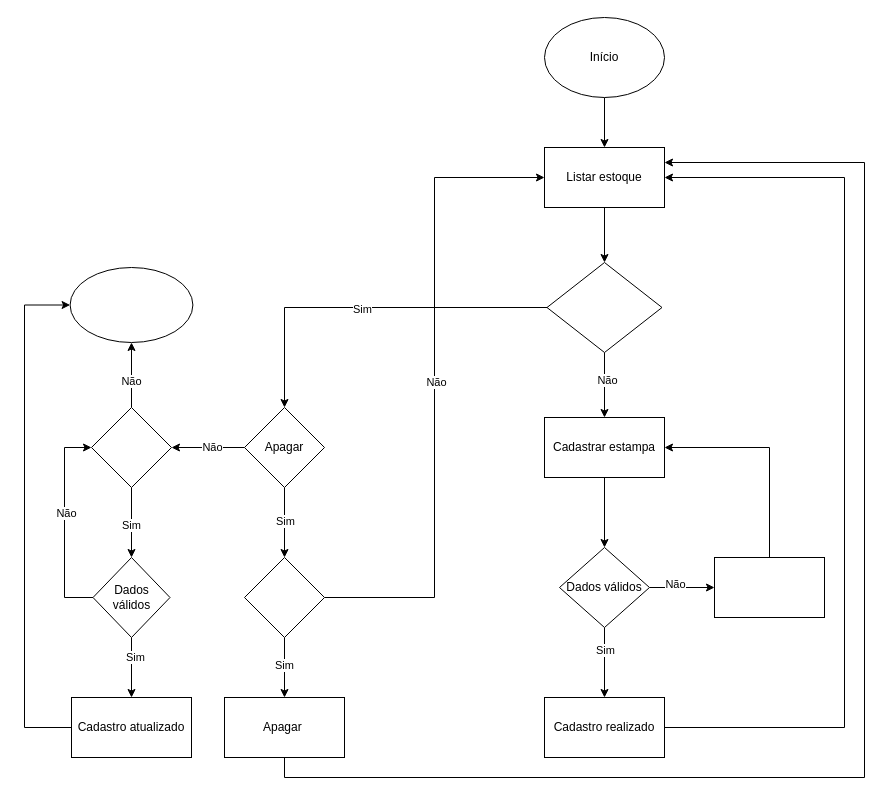
The diagram is 890 pixels wide and 803 high, and some of its shapes have lost their labels. Here are the shapes that lost their labels. From the top down, the box of each, then its label:
(69, 266, 193, 342): Fim
(546, 262, 662, 352): Estoque cadastrada
(90, 406, 172, 488): Atualizar
(244, 556, 324, 638): Confirmação
(714, 556, 824, 618): Mostrar erro
